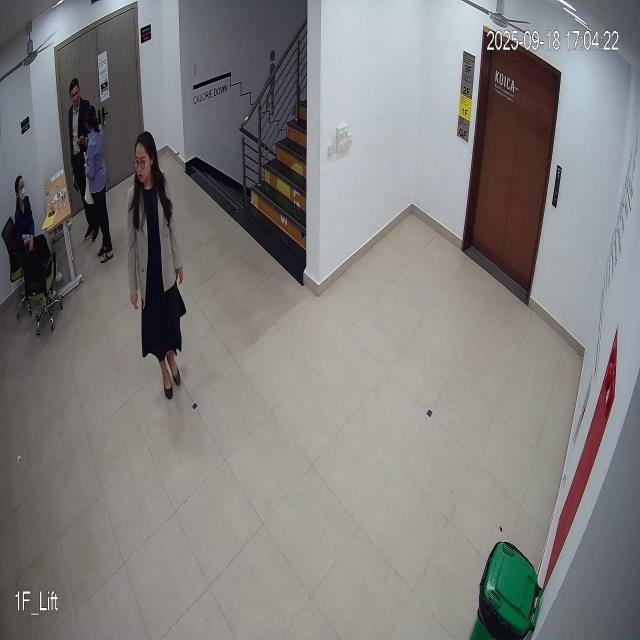face: (129, 132, 163, 194)
